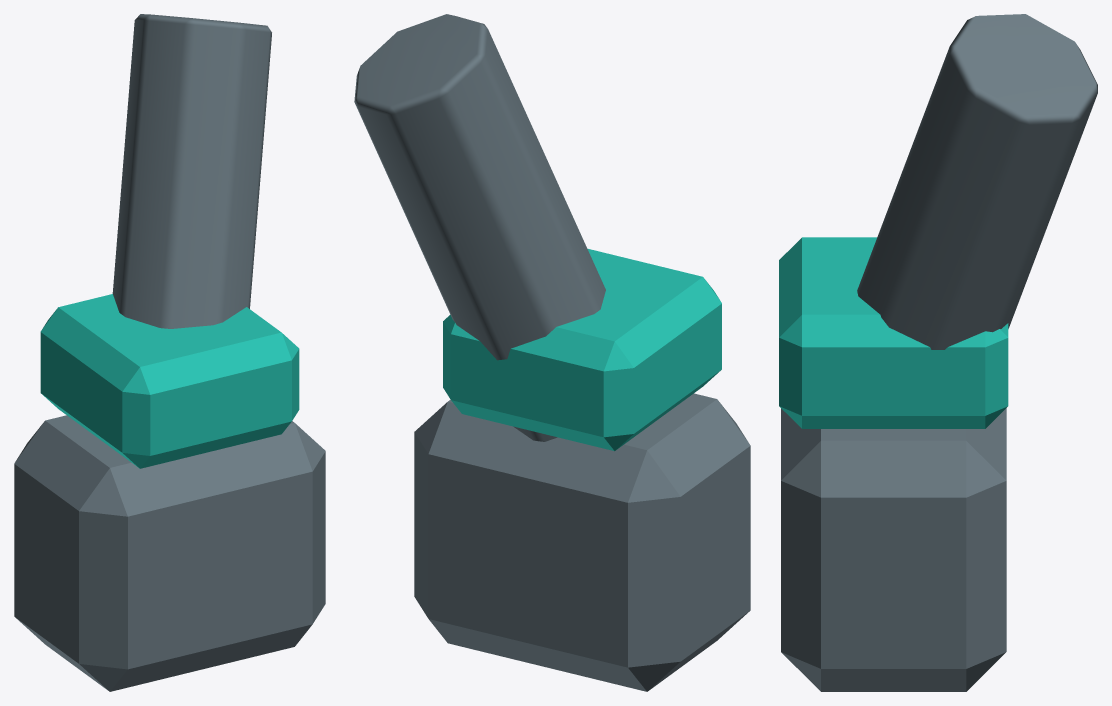
File: SM_Drudge_LegRR.fbx
3 renders of one model, left to right at view 1: azimuth 30°, elevation 25°; view 2: azimuth 150°, elevation 25°; view 3: azimuth 270°, elevation 25°, orthographic. The views are drawn at different scales.
Visible parts, largest first — view 1: SM_Drudge_LegRR; view 2: SM_Drudge_LegRR; view 3: SM_Drudge_LegRR.
Part boxes in pixels (<box>): SM_Drudge_LegRR: <box>14,14,325,691</box>; SM_Drudge_LegRR: <box>354,14,750,691</box>; SM_Drudge_LegRR: <box>779,14,1097,691</box>.
Size of the model in its own units: 7.34 by 6.62 by 15.07.
